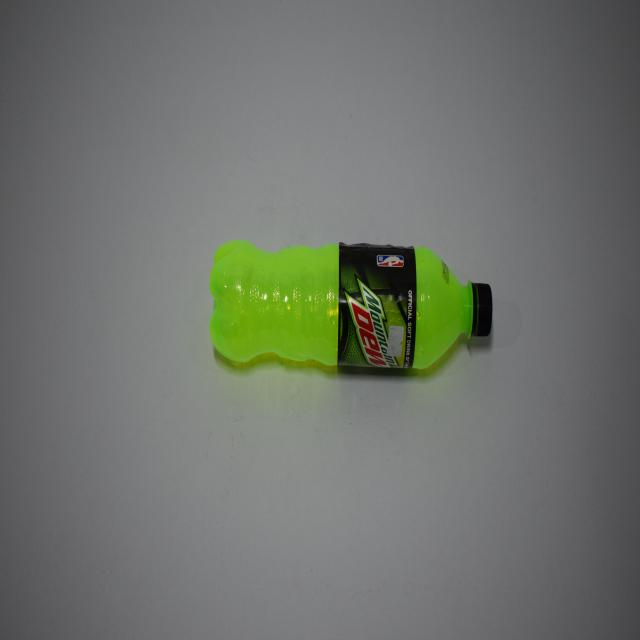bottle: (208, 240, 495, 376)
